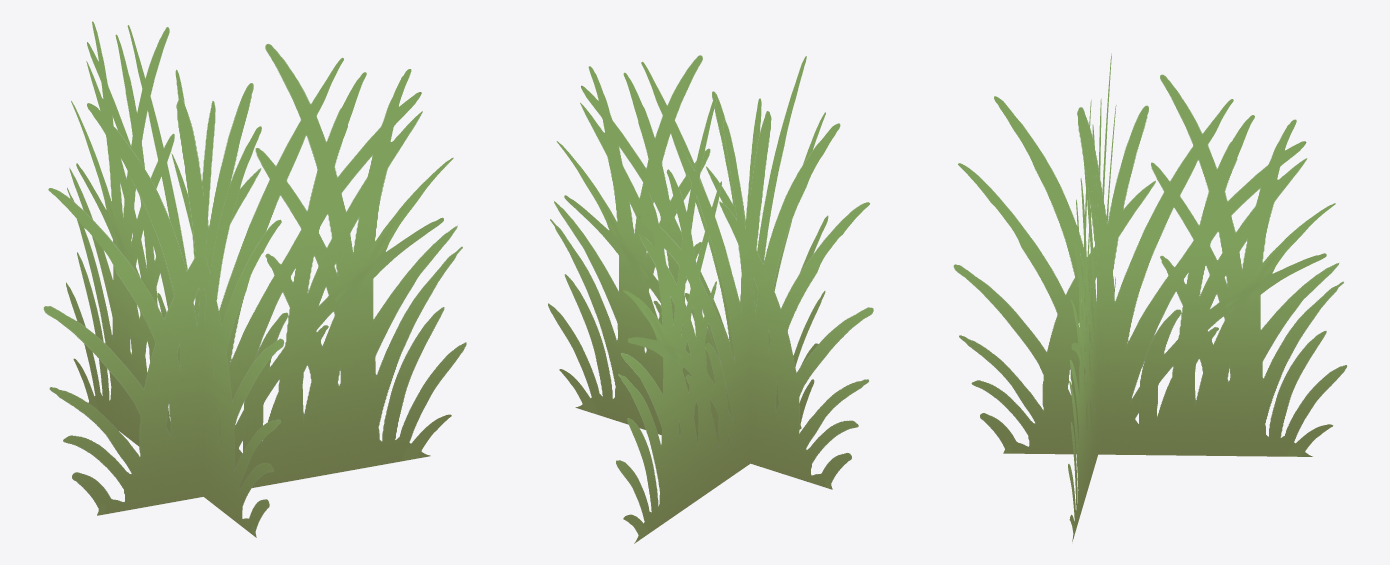
The model's file is GrassCross2.fbx.
The picture shows the model from 3 angles, left to right: view 1: azimuth 30°, elevation 25°; view 2: azimuth 150°, elevation 25°; view 3: azimuth 270°, elevation 25°; orthographic projection. The views are drawn at different scales.
Visible parts, largest first — view 1: polySurface3; view 2: polySurface3; view 3: polySurface3.
Boxes of the visible parts, x1,y1,x2,y2 form: polySurface3: (43, 21, 466, 537); polySurface3: (548, 55, 873, 543); polySurface3: (953, 53, 1347, 541).
Bounding box in the file's own units: 2.04 × 2.08 × 2.06.
Materials: 1 (1 with a texture image).
